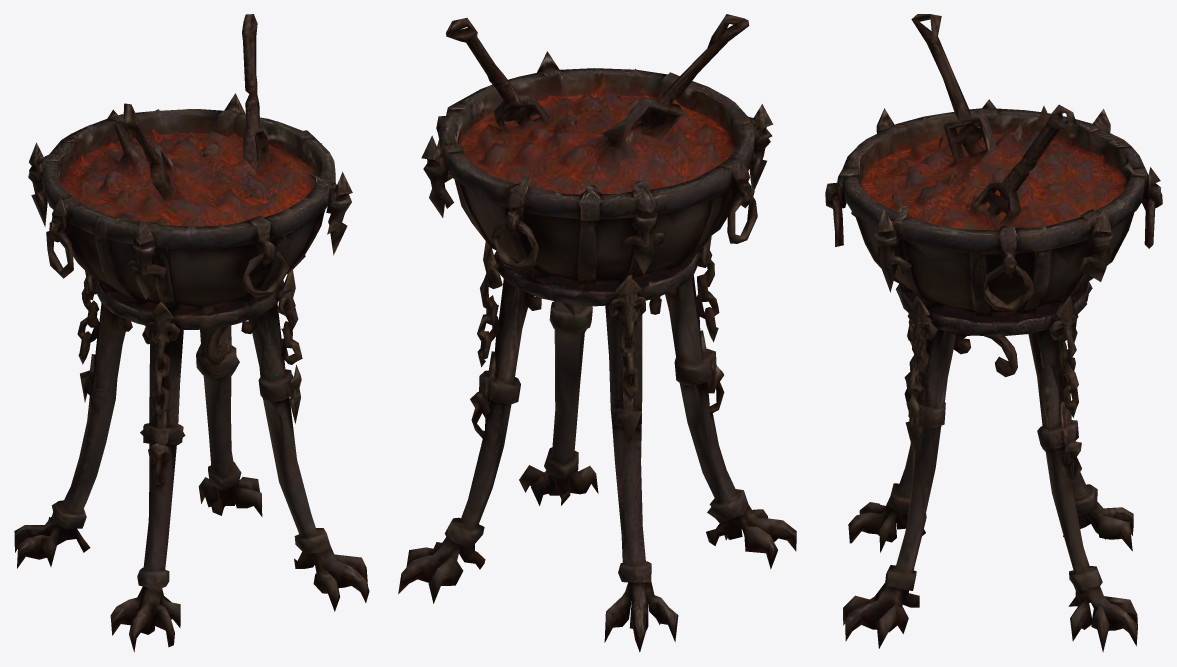
File: brazier.glb
3 renders of one model, left to right at view 1: azimuth 30°, elevation 25°; view 2: azimuth 150°, elevation 25°; view 3: azimuth 270°, elevation 25°, orthographic. The views are drawn at different scales.
Visible parts, largest first — view 1: brazier; view 2: brazier; view 3: brazier.
Boxes of the visible parts, <box> form: brazier: <box>14,14,369,652</box>; brazier: <box>398,14,796,652</box>; brazier: <box>825,14,1162,652</box>.
Bounding box in the file's own units: 0.9198 × 1.6 × 0.9208.
1 material, 1 textured.
